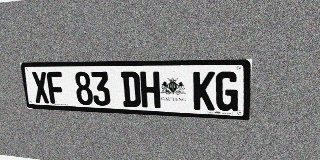3: (91, 71, 111, 106)
8: (74, 71, 93, 105)
D: (121, 71, 141, 107)
F: (46, 72, 65, 104)
G: (215, 71, 239, 111)
H: (140, 71, 160, 108)
K: (193, 71, 215, 110)
X: (31, 72, 50, 103)
